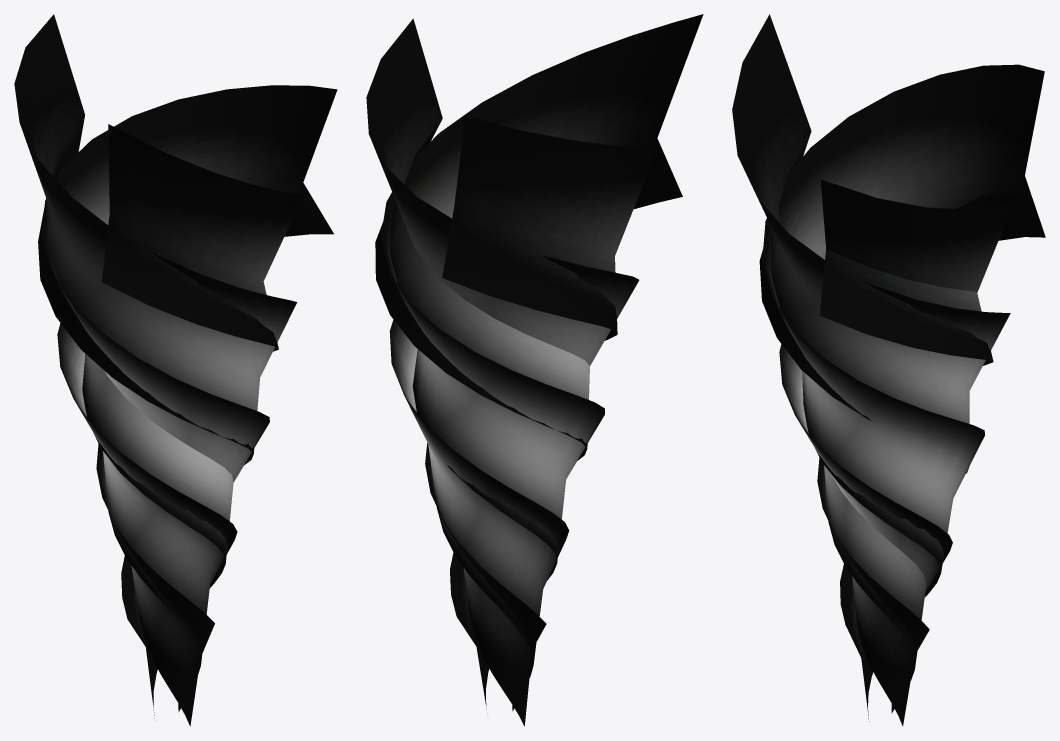
Rendered from vfx_kurp_0415.dae.
The picture shows the model from 3 angles, left to right: view 1: azimuth 30°, elevation 25°; view 2: azimuth 150°, elevation 25°; view 3: azimuth 270°, elevation 25°; orthographic projection. The views are drawn at different scales.
Visible parts, largest first — view 1: vfx_kurp_0415; view 2: vfx_kurp_0415; view 3: vfx_kurp_0415.
Boxes of the visible parts, x1=… form: vfx_kurp_0415: x1=14, y1=14, x2=337, y2=726; vfx_kurp_0415: x1=366, y1=14, x2=703, y2=726; vfx_kurp_0415: x1=732, y1=14, x2=1045, y2=726.
Bounding box in the file's own units: 4.92 × 5.3 × 12.08.
1 material, 1 textured.
